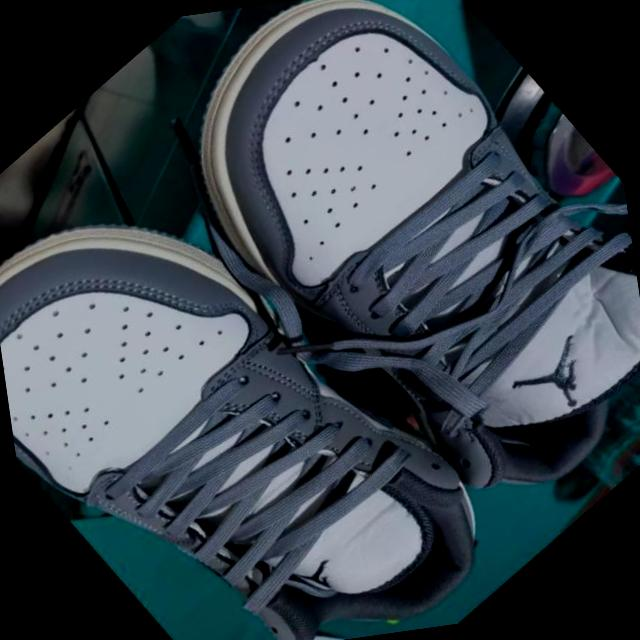nike_fake_jordan: (119, 0, 640, 592), (0, 77, 535, 640)
